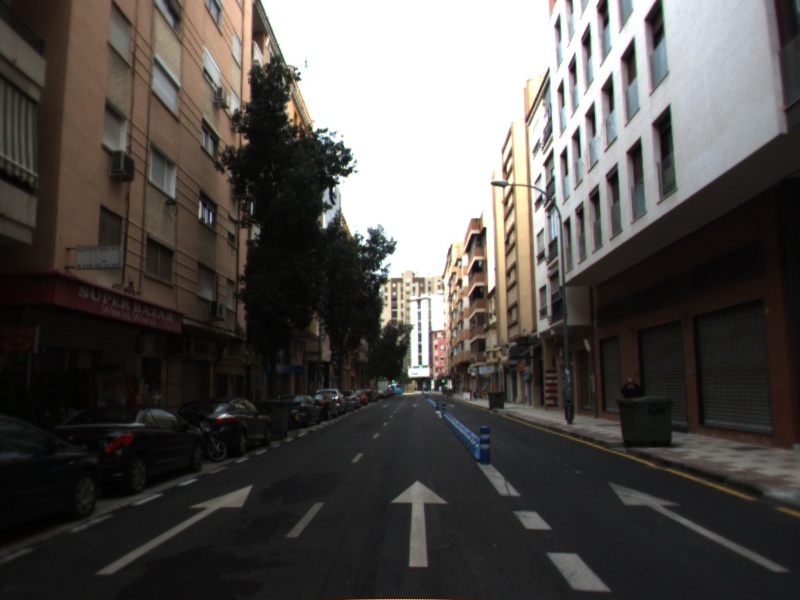STRAIGHT: (606, 479, 792, 574), (93, 483, 254, 577), (389, 478, 451, 568)
